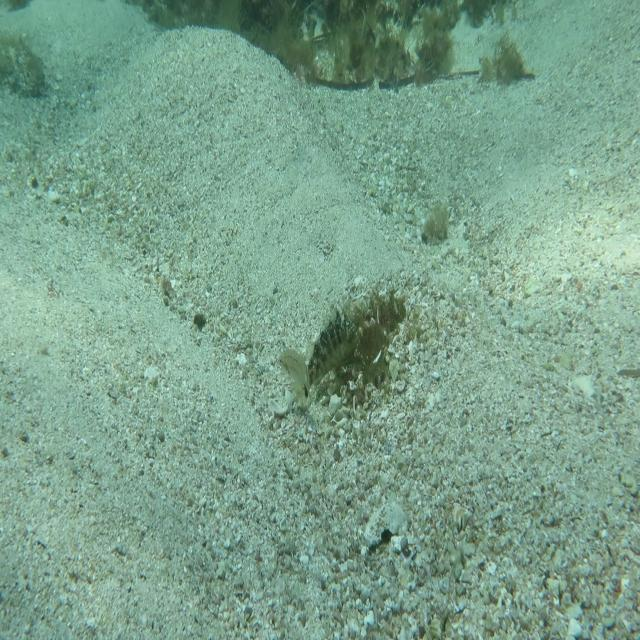BEND: (290, 297, 364, 412)
female: (273, 345, 314, 405)
nest: (310, 267, 404, 401)
vegetation: (244, 0, 512, 71), (420, 198, 453, 253)
